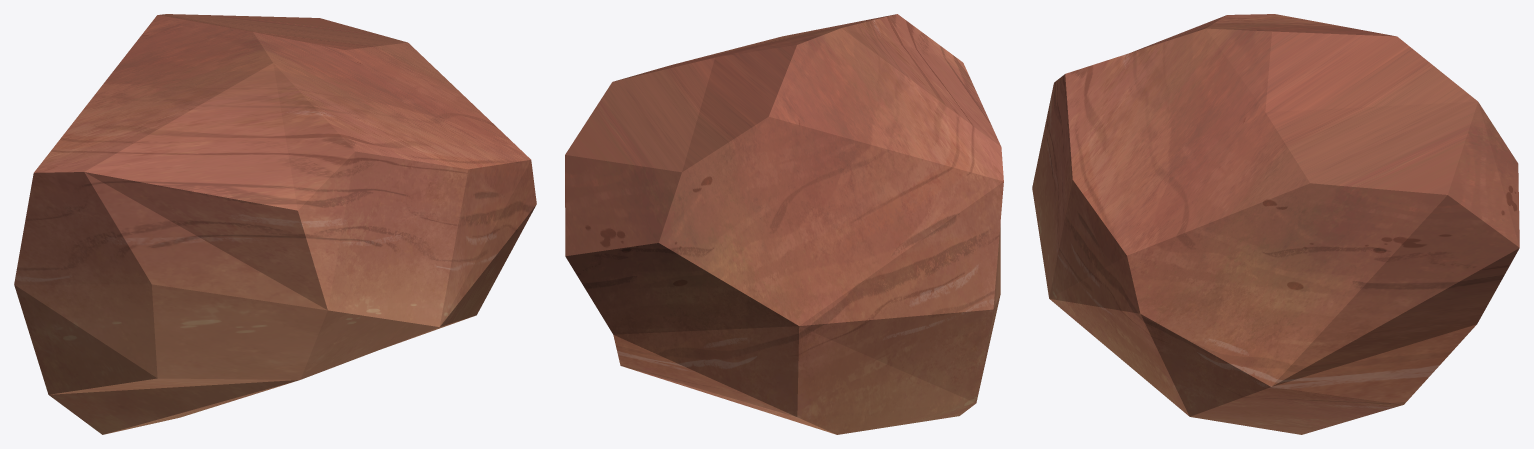
The model's file is rock_2_016.fbx.
3 renders of one model, left to right at view 1: azimuth 30°, elevation 25°; view 2: azimuth 150°, elevation 25°; view 3: azimuth 270°, elevation 25°, orthographic. The views are drawn at different scales.
Visible parts, largest first — view 1: rock 2.016; view 2: rock 2.016; view 3: rock 2.016.
Boxes of the visible parts, x1,y1,x2,y2 form: rock 2.016: [14, 14, 536, 434]; rock 2.016: [565, 14, 1003, 434]; rock 2.016: [1032, 14, 1519, 434].
Bounding box in the file's own units: 189 × 155 × 182.
